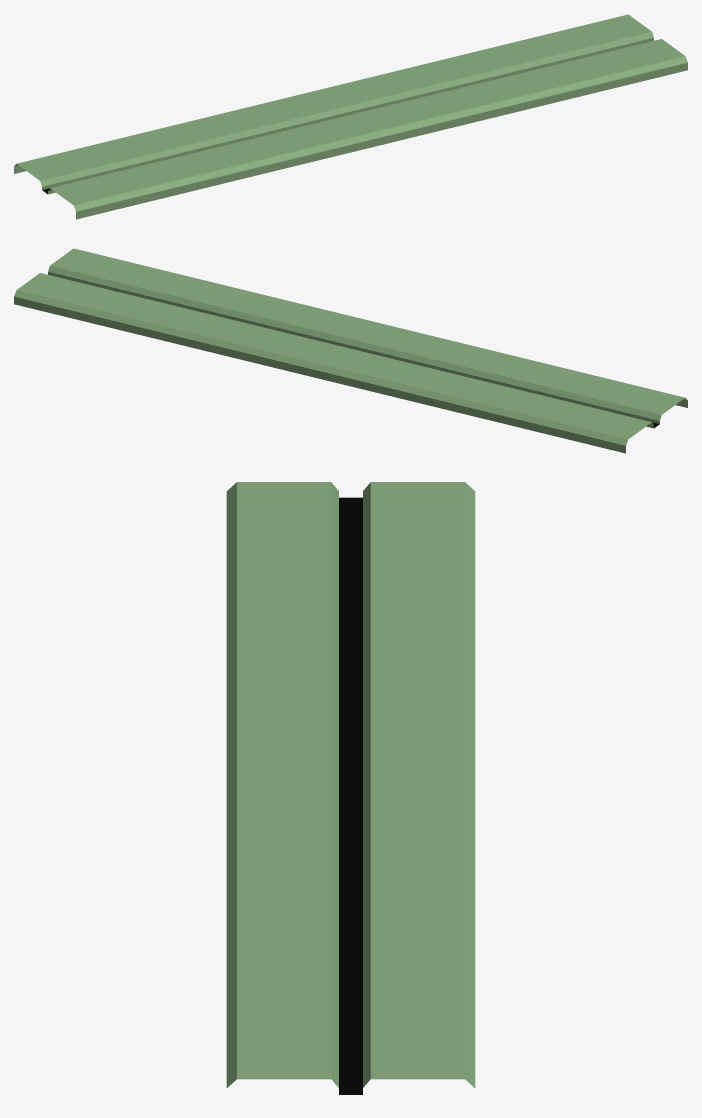
The model's file is SpinTrap_Main.fbx.
The picture shows the model from 3 angles, top to bottom: view 1: azimuth 30°, elevation 25°; view 2: azimuth 150°, elevation 25°; view 3: azimuth 270°, elevation 25°; orthographic projection. The views are drawn at different scales.
Visible parts, largest first — view 1: SpinTrap_FloorMain; view 2: SpinTrap_FloorMain; view 3: SpinTrap_FloorMain.
Boxes of the visible parts, x1,y1,x2,y2 form: SpinTrap_FloorMain: (14, 14, 687, 219); SpinTrap_FloorMain: (14, 248, 687, 453); SpinTrap_FloorMain: (226, 482, 475, 1094).
Size of the model in its own units: 350 by 6.72 by 61.51.
